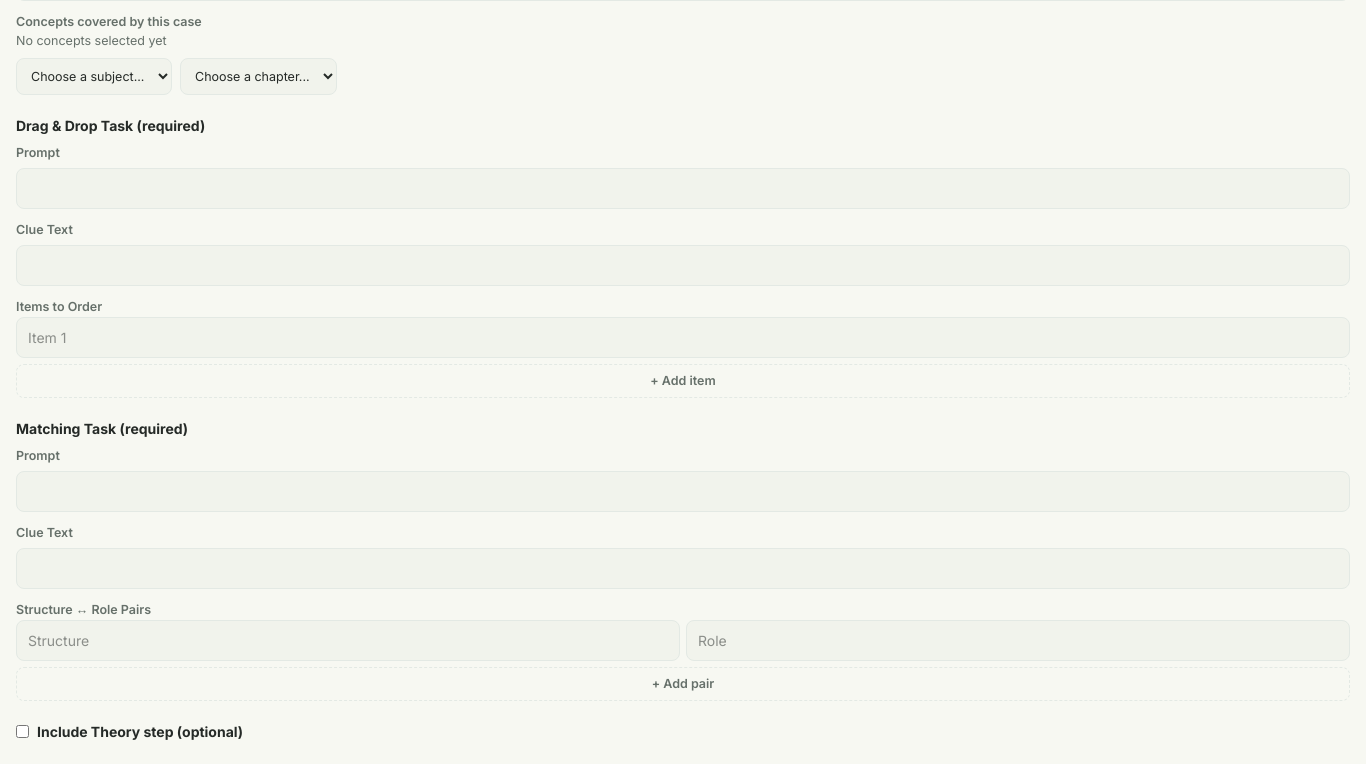
Test case: AdminCaseEditor › drag & drop items: '+ Add item' appends a blank item; remove button only shows past the first item
The image size is (1366, 764).
(page scrolled)
Expected: the number of fields with placeholder "Item 1" is 1, 16,316 -> 1350,358
Expected: the text "✕" is not shown
Click the button "+ Add item" at (683, 381), box 16,364 -> 1350,398
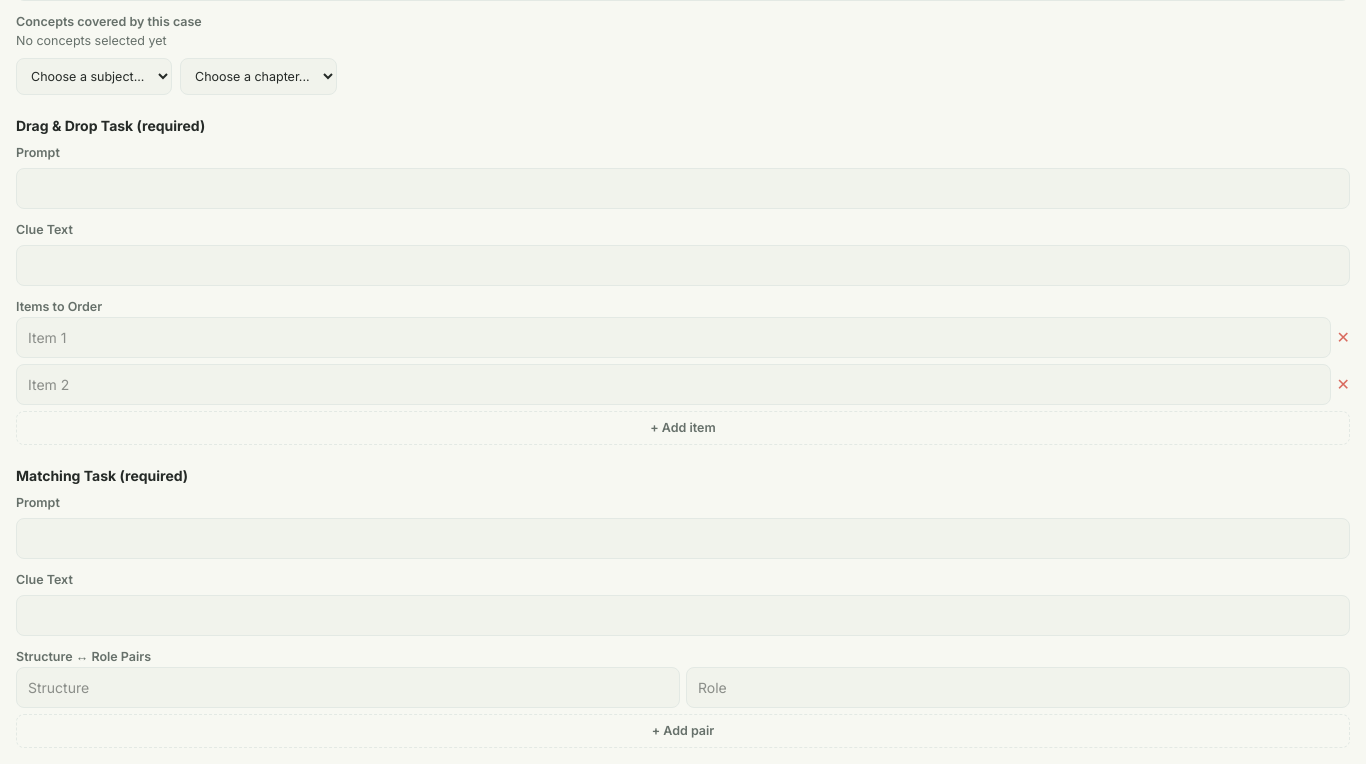
Result: the number of fields with placeholder "Item 1" is 2 at 16,316 -> 1331,358; 16,364 -> 1331,404
Result: the 1st button with class "admin-modal__remove-option" is shown at 1337,325 -> 1350,349
